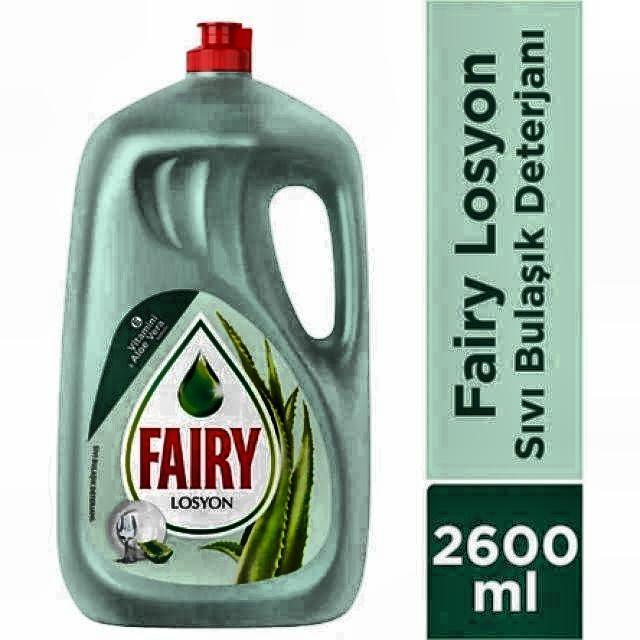plastic: (56, 20, 372, 636)
